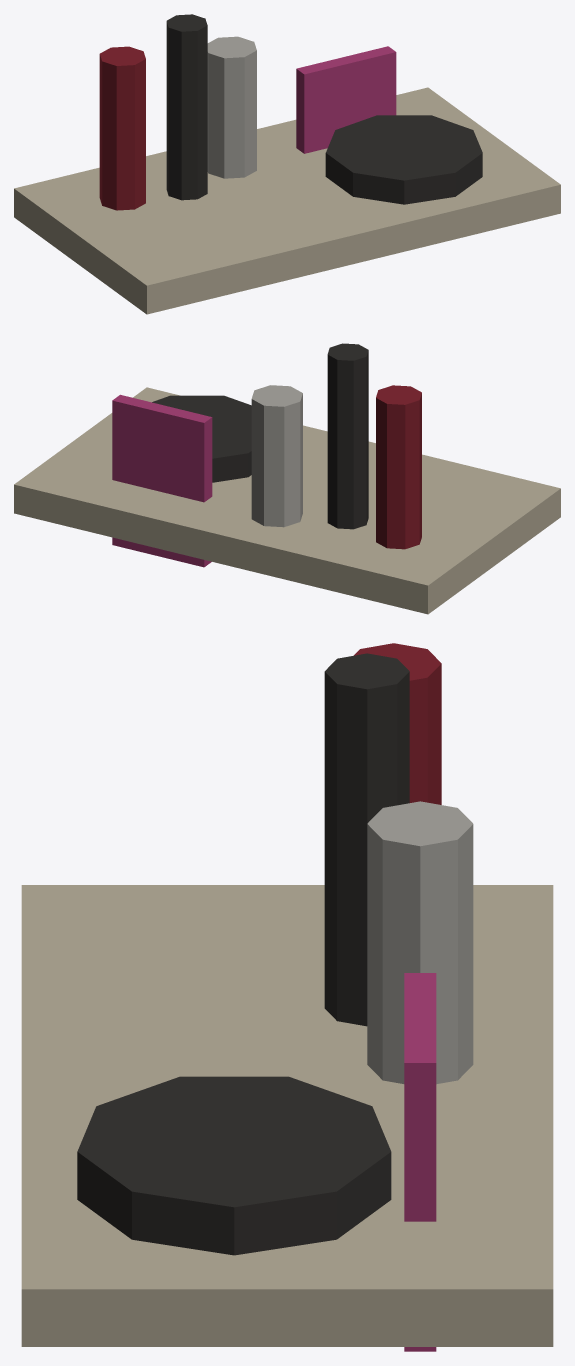
The model's file is makeup-tray.glb.
3 views of the same model, one above another, from view 1: azimuth 30°, elevation 25°; view 2: azimuth 150°, elevation 25°; view 3: azimuth 270°, elevation 25° (orthographic). The views are drawn at different scales.
Parts seen in each view (by area): view 1: plastic-light, plastic-dark, accent-magenta, accent-crimson, brushed; view 2: plastic-light, plastic-dark, accent-magenta, accent-crimson, brushed; view 3: plastic-light, plastic-dark, brushed, accent-magenta, accent-crimson.
Part boxes in pixels (x1,y1,x2,y2): plastic-light: (14, 87, 560, 314); plastic-dark: (166, 14, 482, 204); accent-magenta: (296, 46, 396, 153); accent-crimson: (99, 46, 145, 210); brushed: (207, 36, 256, 178); plastic-light: (14, 387, 560, 614); plastic-dark: (152, 343, 368, 529); accent-magenta: (112, 394, 212, 567); accent-crimson: (376, 385, 421, 549); brushed: (251, 385, 302, 527); plastic-light: (21, 885, 553, 1346); plastic-dark: (77, 653, 409, 1255); brushed: (367, 801, 473, 1084); accent-magenta: (404, 973, 436, 1351); accent-crimson: (354, 643, 441, 804).
Bounding box in the file's own units: 0.18 × 0.097 × 0.1.
